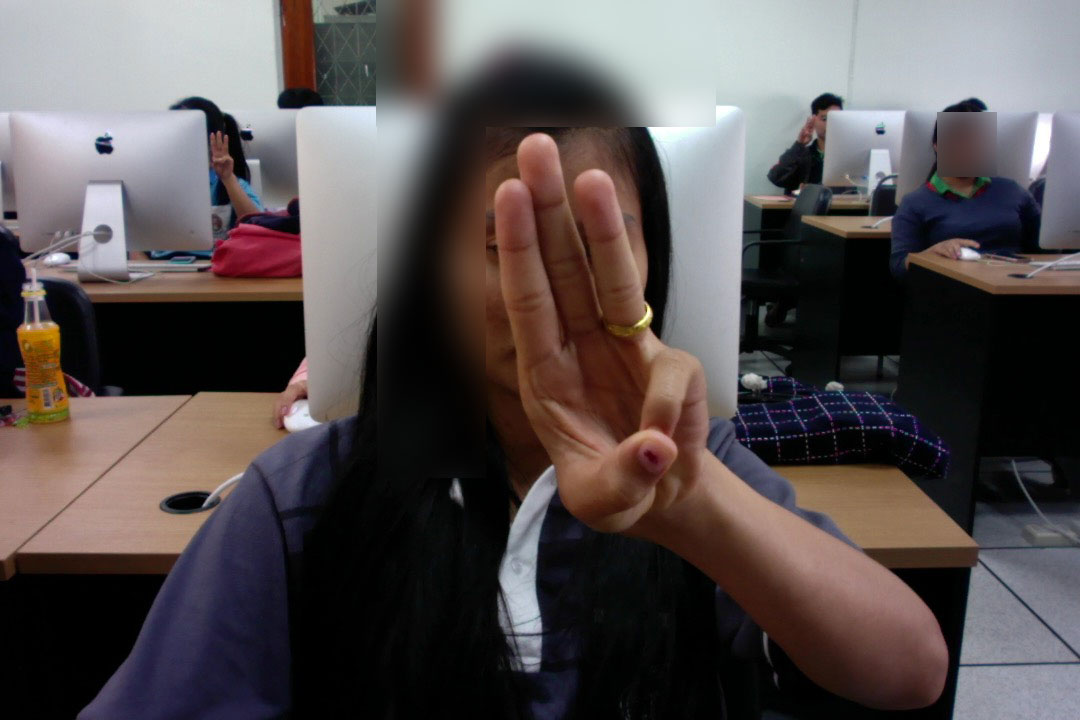wor: (487, 121, 722, 538)
